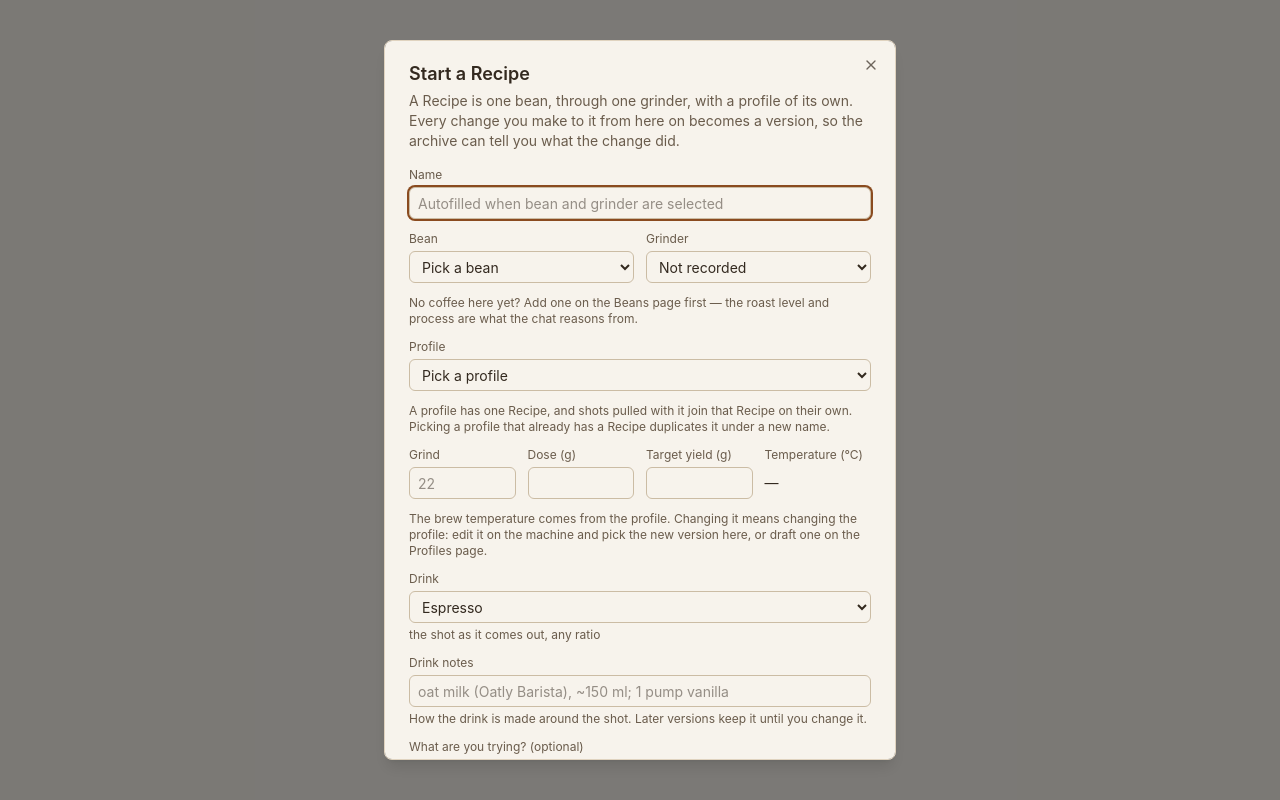
Scenario: NewRecipeDialog › a profile that already has a Recipe › opens Duplicate Profile on its active version, and Cancel leaves the pick as it was
The width and height of the screenshot is (1280, 800).
Select "9 Bar Espresso" in the dropdown labelled "Profile". click: coordinates (640, 375)
box: [409,359,871,391]
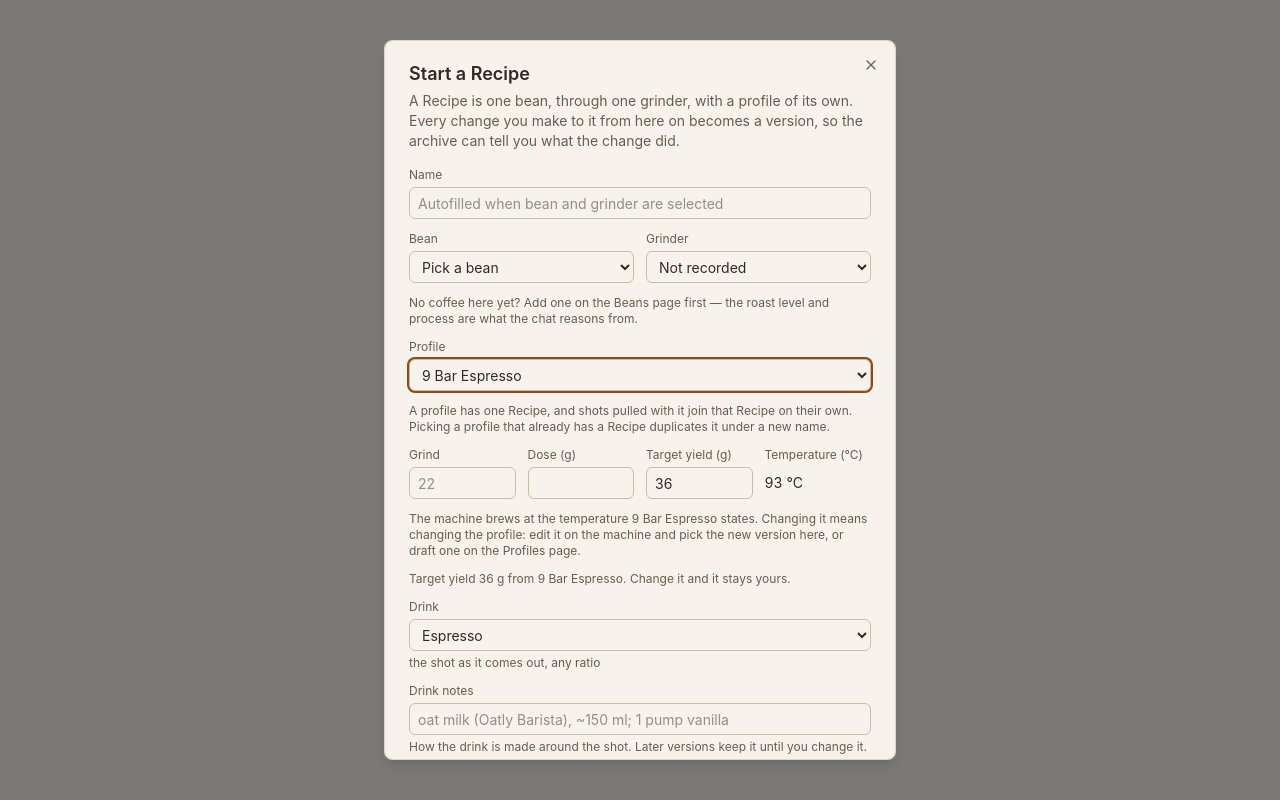
Select "Lever 6 bar (Kenya)" in the dropdown labelled "Profile". click: coordinates (640, 375)
box: [409,359,871,391]
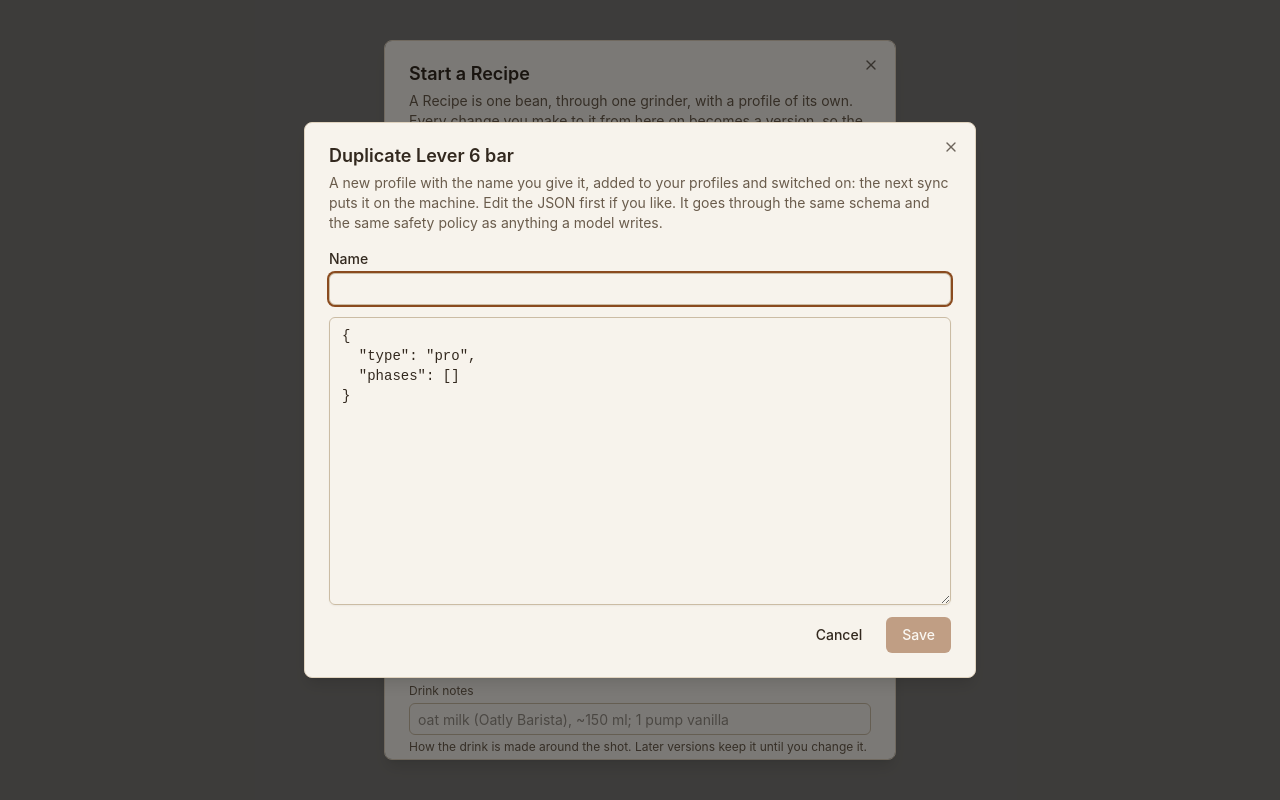
Expected: the heading "Duplicate Lever 6 bar" is shown, [329,145,514,166]
Expected: the field with test id "duplicate-profile-name" is empty, [329,273,951,305]
Click the button "Cancel". click: coordinates (839, 635)
box: [800,617,878,653]
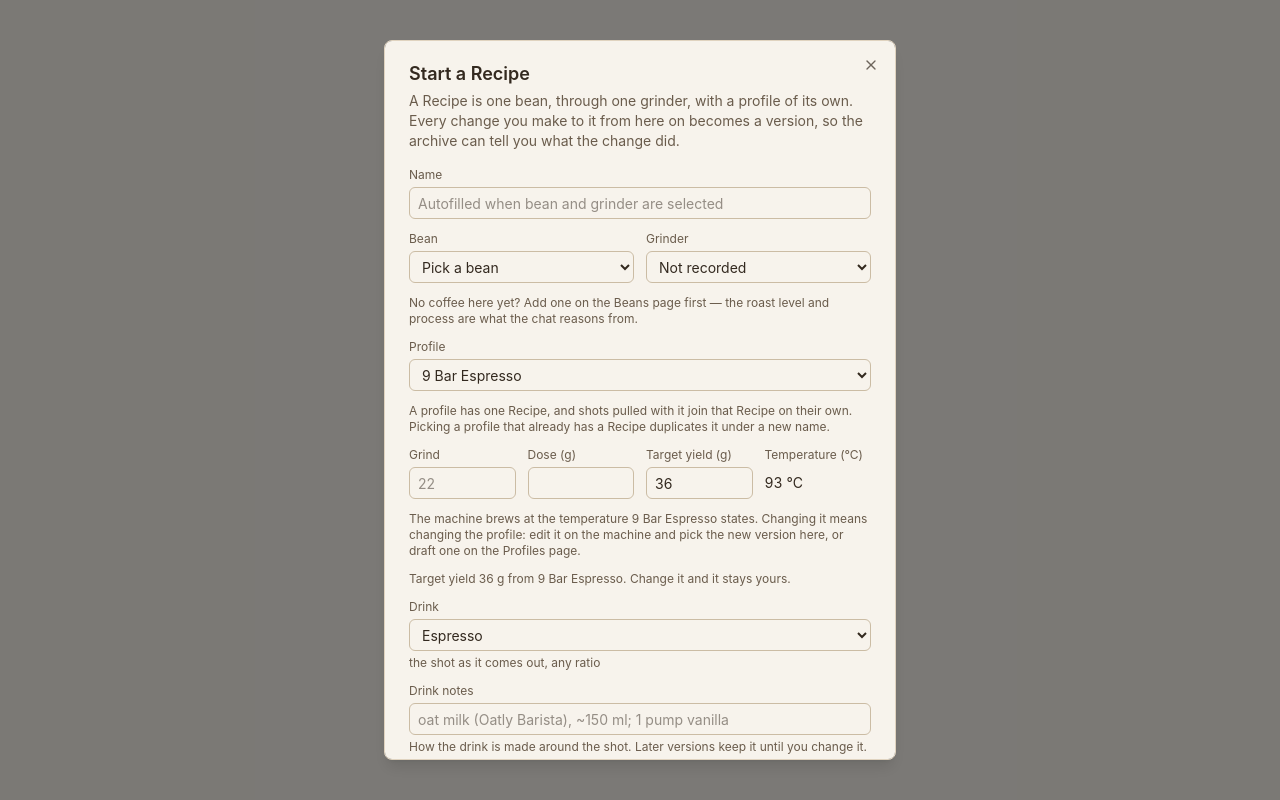
Expected: the heading "Duplicate Lever 6 bar" is gone
